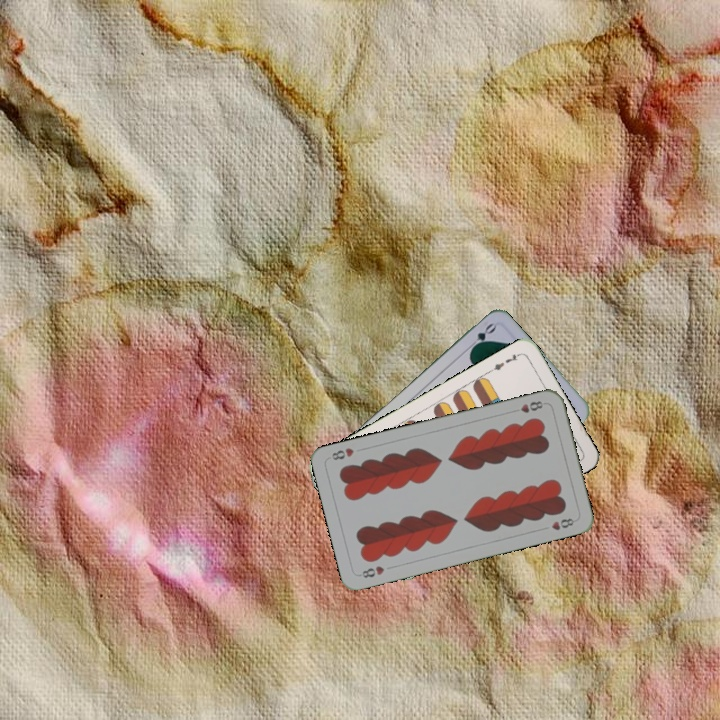E7: (486, 349, 524, 374)
GO: (464, 319, 498, 354)
H8: (508, 397, 545, 416), (355, 562, 387, 581)
